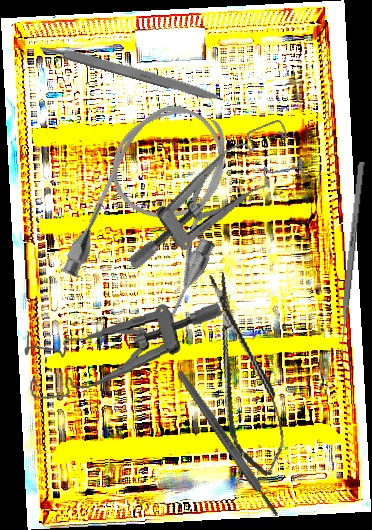Cannula: (56, 88, 260, 334)
Micro Scissor: (196, 266, 292, 482)
Pusher: (337, 161, 365, 360)
Scalpel Handle: (174, 368, 282, 519), (36, 38, 227, 105)
Speculum: (101, 116, 317, 272), (21, 300, 227, 401)
